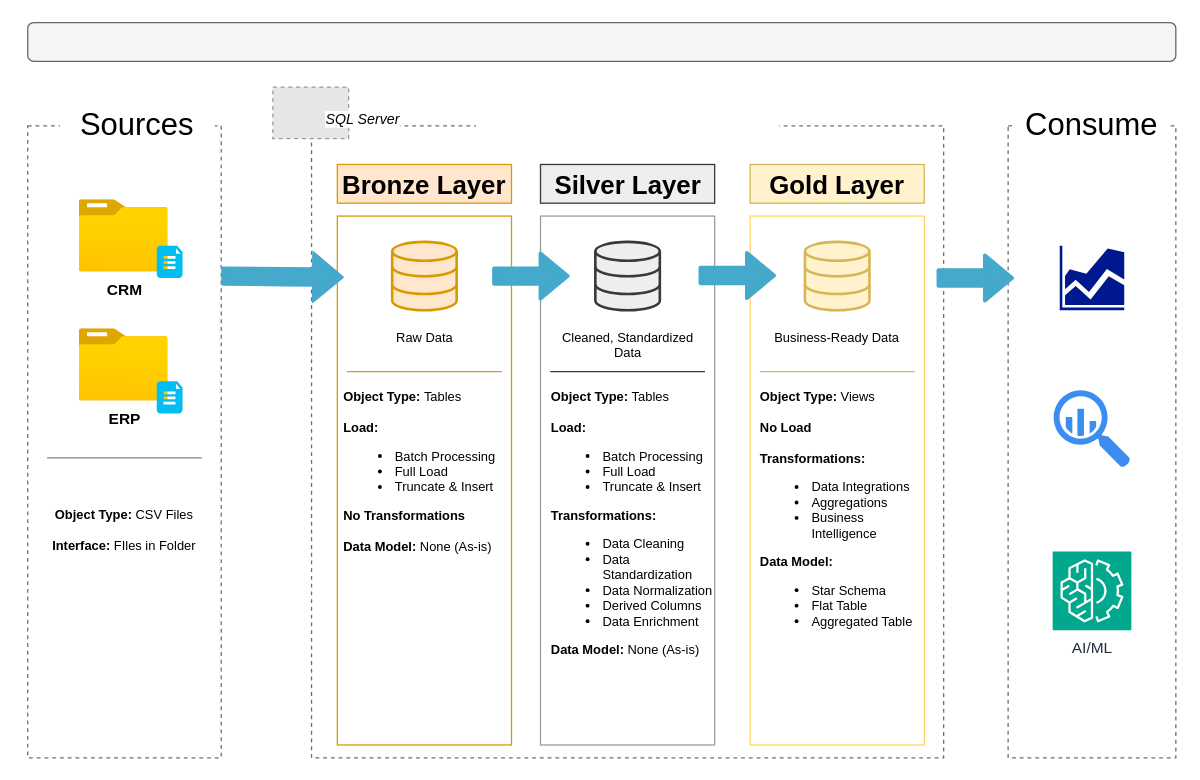
This 1200x780 diagram has some shape labels left out. Grey dashed boxes stand in for pictures. Here are the shapes that lost their labels. From the top down, the centre of each, then its label:
At (601,41): "Data Architecture".
At (627,125): "Data Warehouse".
At (1091,277): "BI & Reporting".
At (1091,428): "Ad-Hoc SQL Queries".
